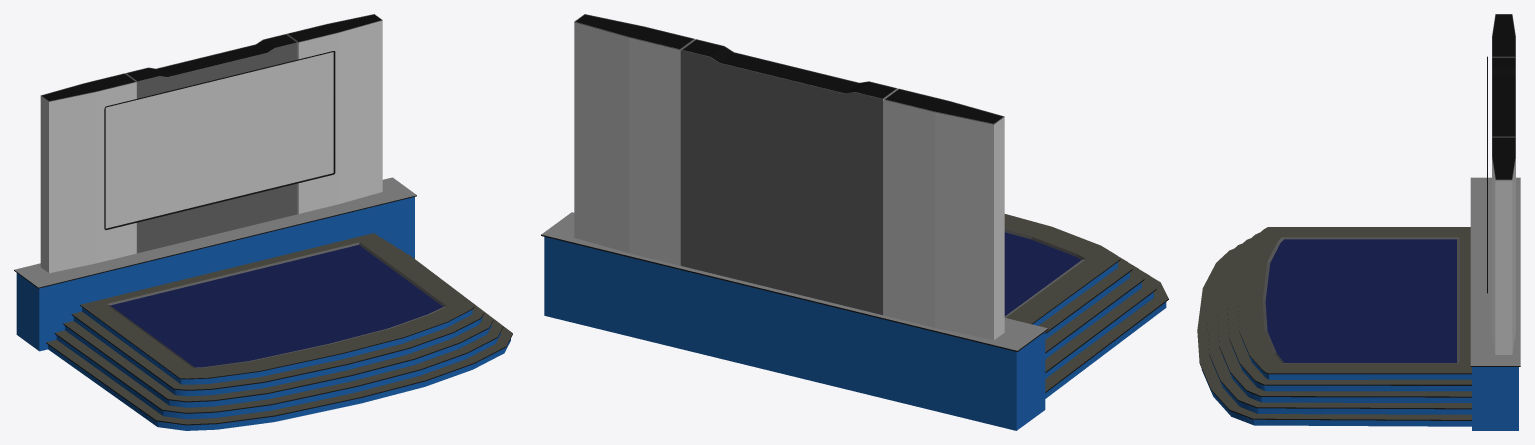
File: W_O_Text_Board_01_L3.fbx
3 views of the same model, side by side, from view 1: azimuth 30°, elevation 25°; view 2: azimuth 150°, elevation 25°; view 3: azimuth 270°, elevation 25° (orthographic). The views are drawn at different scales.
Visible parts, largest first — view 1: W_O_Text_Board_01_L3; view 2: W_O_Text_Board_01_L3; view 3: W_O_Text_Board_01_L3.
Boxes of the visible parts, x1,y1,x2,y2 form: W_O_Text_Board_01_L3: (14,14,512,430); W_O_Text_Board_01_L3: (541,14,1168,430); W_O_Text_Board_01_L3: (1197,14,1520,430).
Bounding box in the file's own units: 9.16 × 6.65 × 5.46.
